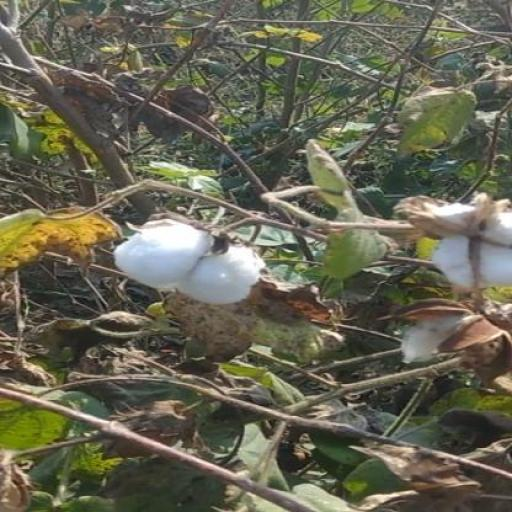cotton_ready: (104, 194, 291, 320)
